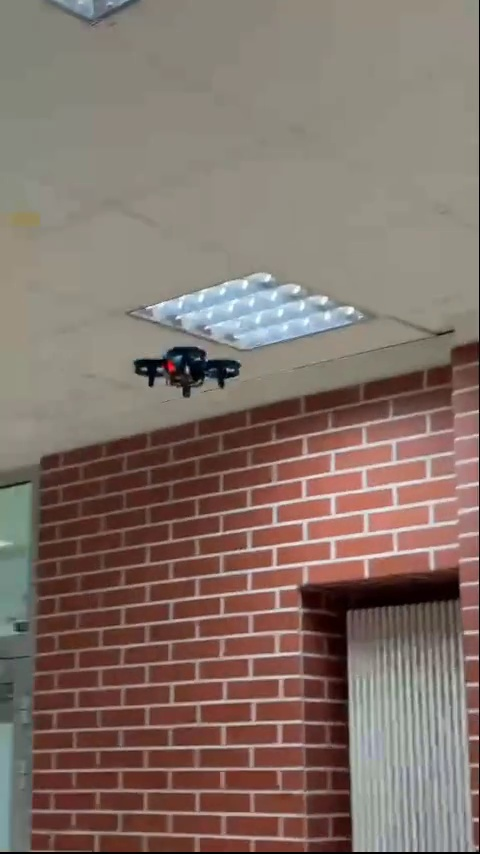drone: (135, 348, 240, 394)
